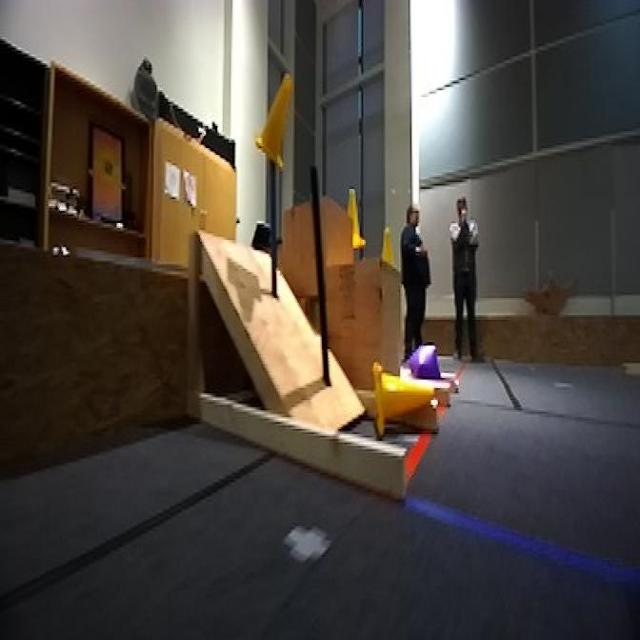frc_cone: (369, 363, 437, 439), (254, 68, 292, 172), (338, 185, 365, 252), (381, 228, 396, 266)
frc_cube: (407, 344, 442, 395)
